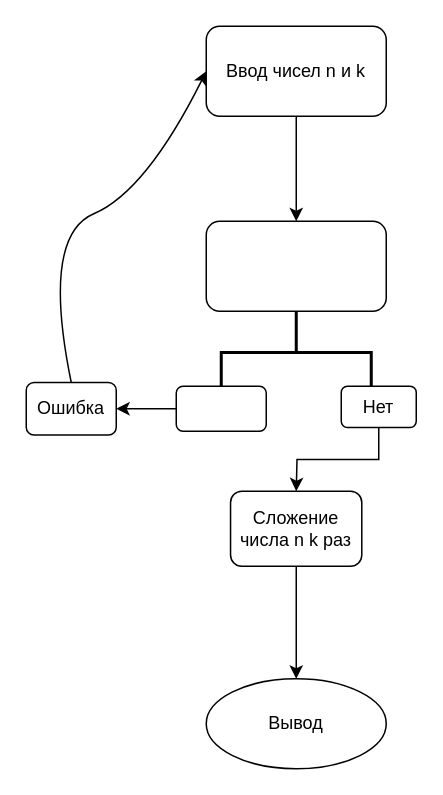
Image size: 443x795. Some labels were removed from this diagram. Here are the shapes that lost their labels. From the top down, the centre of each, then its label:
point (295, 265): Числа равны нулю?
point (220, 408): Да
